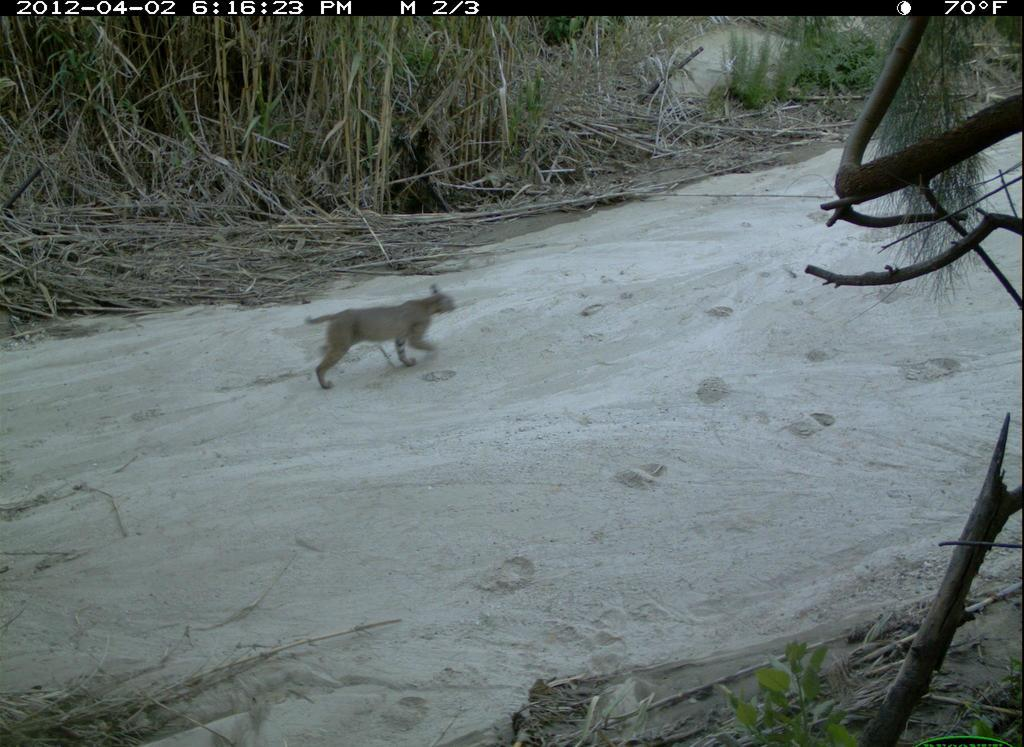bobcat: (285, 278, 464, 409)
